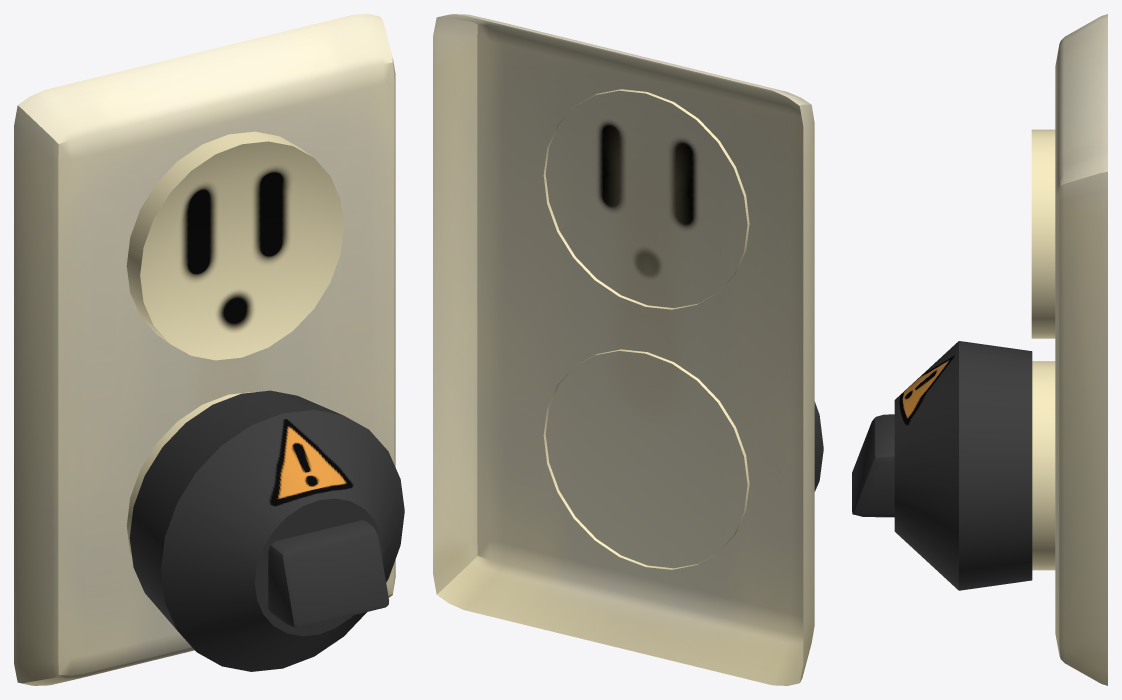
Rendered from Outlet.fbx.
3 views of the same model, side by side, from view 1: azimuth 30°, elevation 25°; view 2: azimuth 150°, elevation 25°; view 3: azimuth 270°, elevation 25° (orthographic). The views are drawn at different scales.
Visible parts, largest first — view 1: Outlet LOD0; view 2: Outlet LOD0; view 3: Outlet LOD0.
Part boxes in pixels (box(x1,y1,x2,y2)): Outlet LOD0: box(14, 14, 404, 685); Outlet LOD0: box(433, 14, 823, 685); Outlet LOD0: box(852, 14, 1107, 685).
Size of what is drawn, in the model's own units: 197 by 303 by 132.
